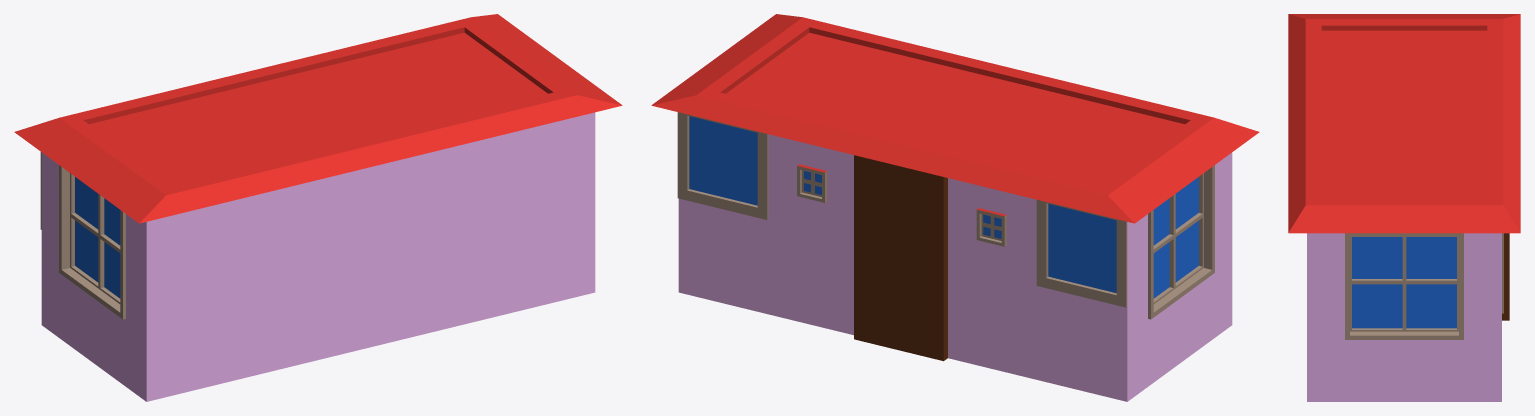
File: Station Light Pink.fbx
The picture shows the model from 3 angles, left to right: view 1: azimuth 30°, elevation 25°; view 2: azimuth 150°, elevation 25°; view 3: azimuth 270°, elevation 25°; orthographic projection. The views are drawn at different scales.
Visible parts, largest first — view 1: Cube.002; view 2: Cube.002; view 3: Cube.002.
Part boxes in pixels (<box>): Cube.002: <box>14,14,622,401</box>; Cube.002: <box>651,14,1259,401</box>; Cube.002: <box>1288,14,1520,401</box>.
Size of the model in its own units: 3261 by 1304 by 1461.
